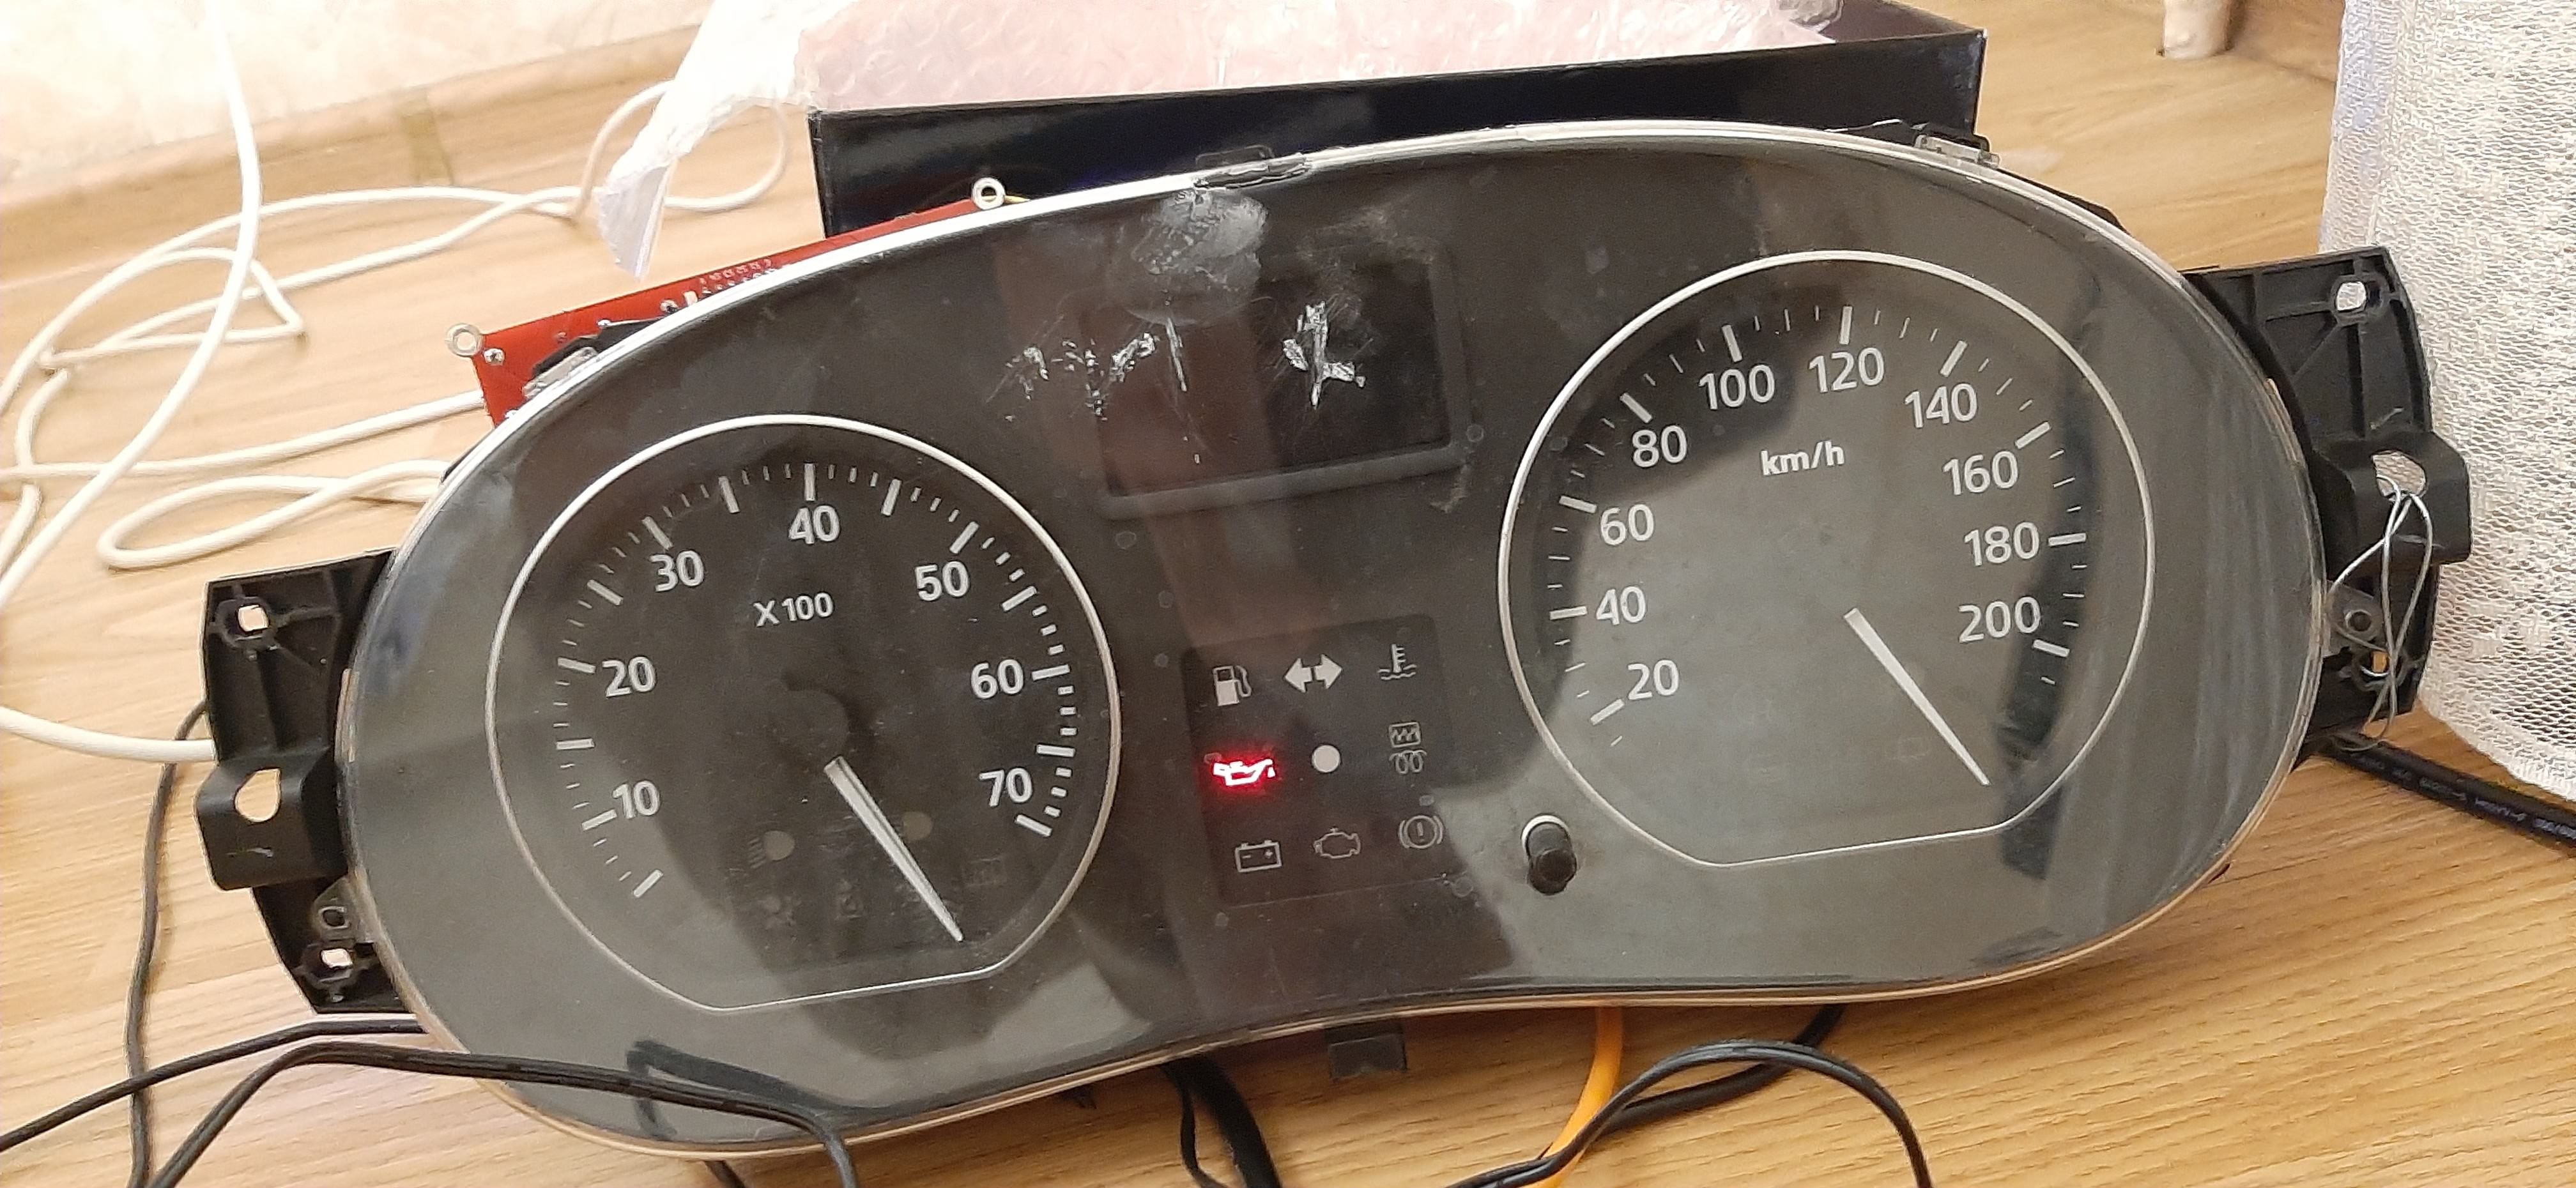oil10: (1209, 756, 1280, 787)
